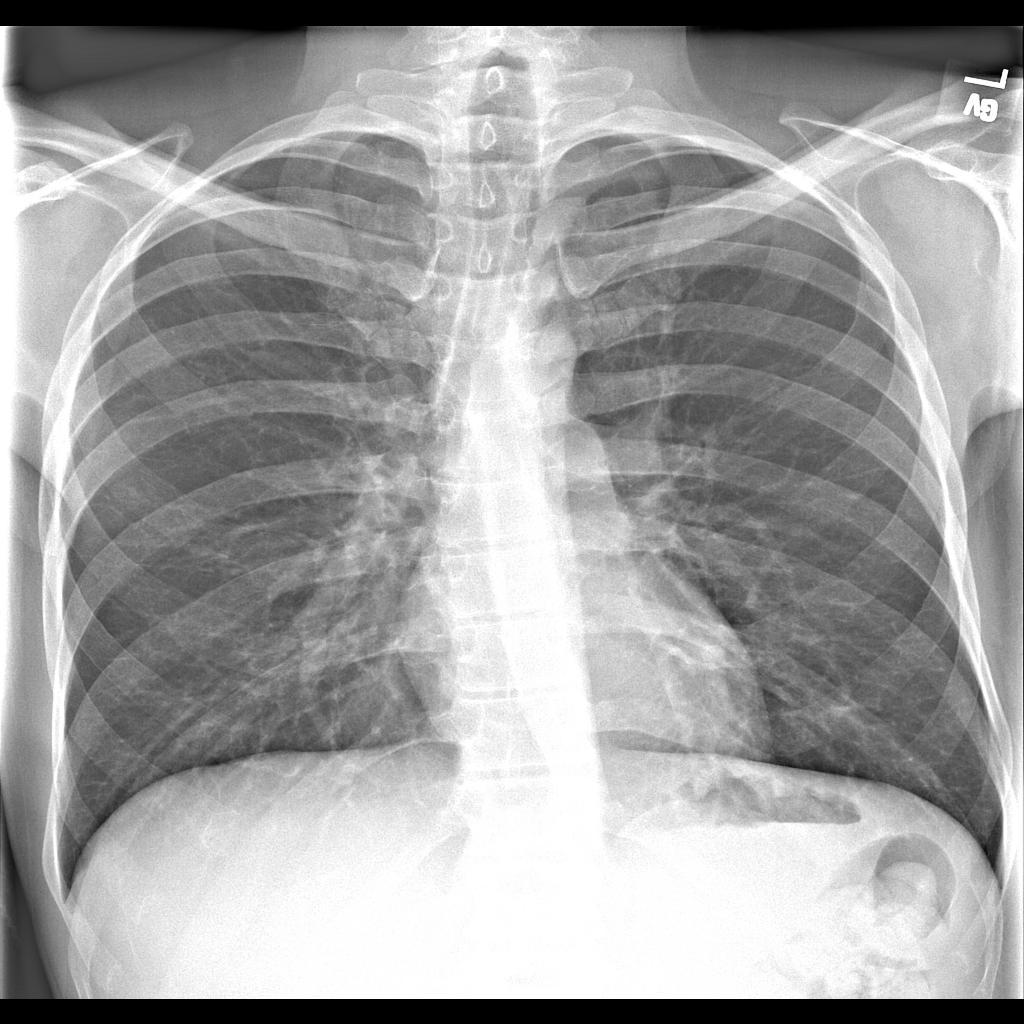Nodule: (697, 643, 729, 673)
